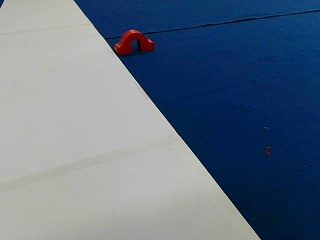bridge: (115, 30, 154, 53)
